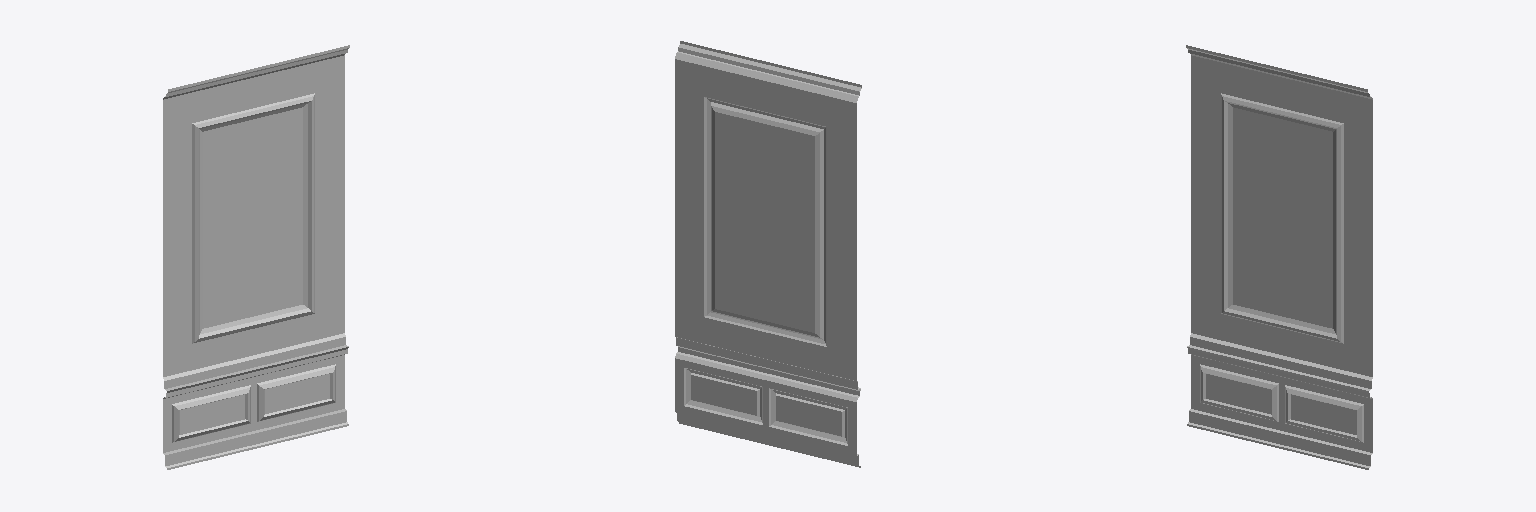
Rendered from Wall01.obj.
3 renders of one model, left to right at view 1: azimuth 30°, elevation 25°; view 2: azimuth 150°, elevation 25°; view 3: azimuth 330°, elevation 25°, orthographic.
Parts seen in each view (by area): view 1: Walls_Wall_01; view 2: Walls_Wall_01; view 3: Walls_Wall_01.
Boxes of the visible parts, x1=… form: Walls_Wall_01: x1=163, y1=45, x2=349, y2=469; Walls_Wall_01: x1=675, y1=41, x2=861, y2=467; Walls_Wall_01: x1=1186, y1=45, x2=1372, y2=469.
Size of the model in its own units: 200 by 401 by 11.56.